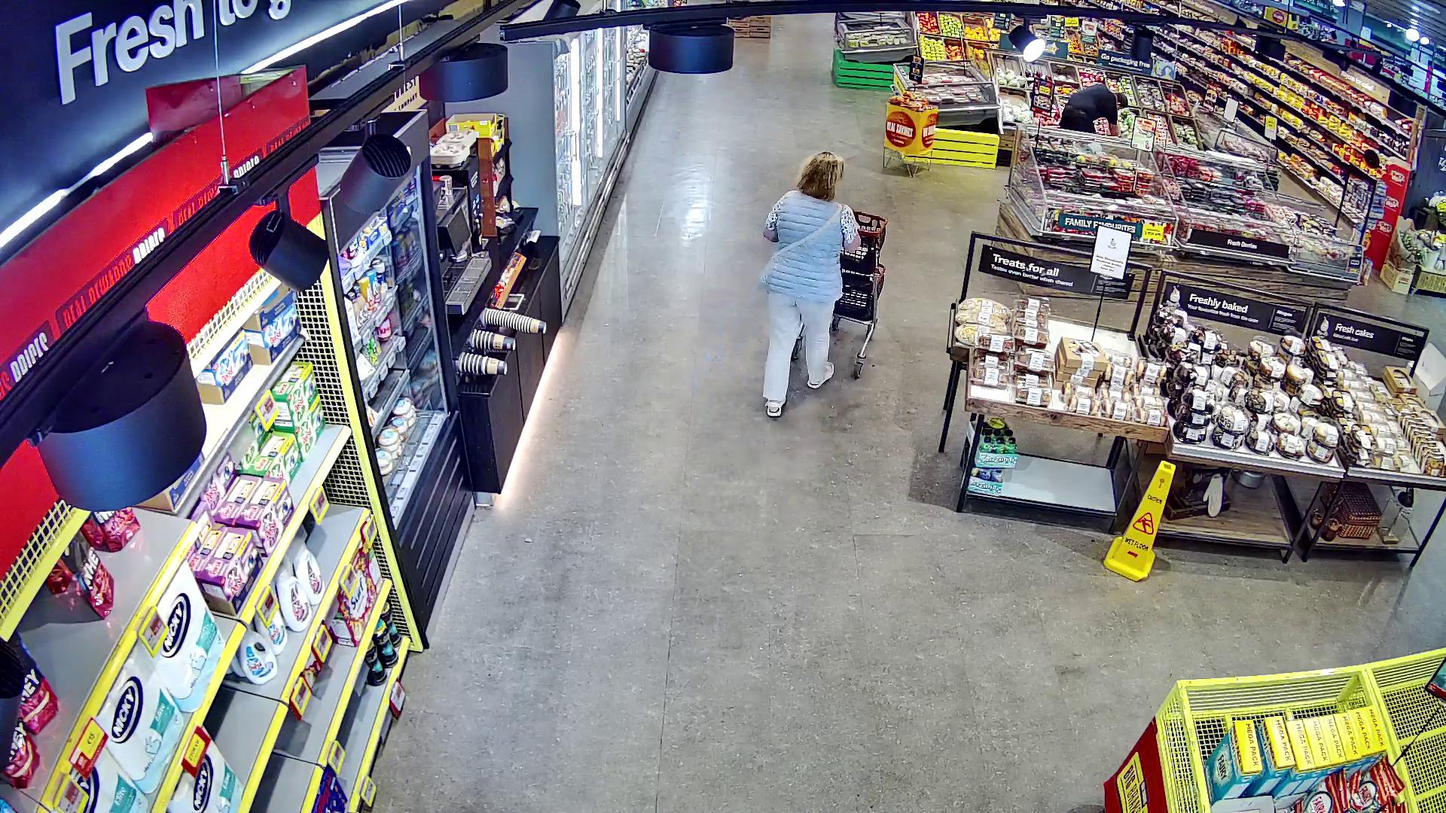empty-trolly: (832, 209, 888, 376)
person: (761, 151, 861, 417)
person-with-empty-basket-trolly: (760, 149, 887, 417)
